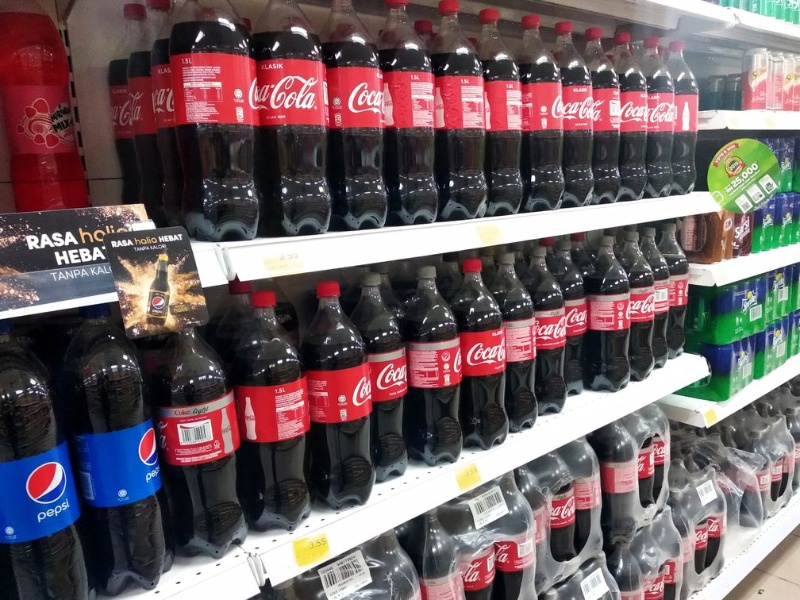Plastic bottle: (40, 310, 173, 592), (213, 273, 328, 540), (276, 274, 397, 505), (135, 8, 265, 221), (289, 12, 399, 254), (227, 4, 336, 238), (320, 264, 420, 467), (429, 256, 525, 466), (375, 267, 481, 457), (362, 7, 445, 219), (465, 250, 547, 442), (505, 239, 578, 440), (473, 9, 535, 206), (565, 230, 639, 384)
